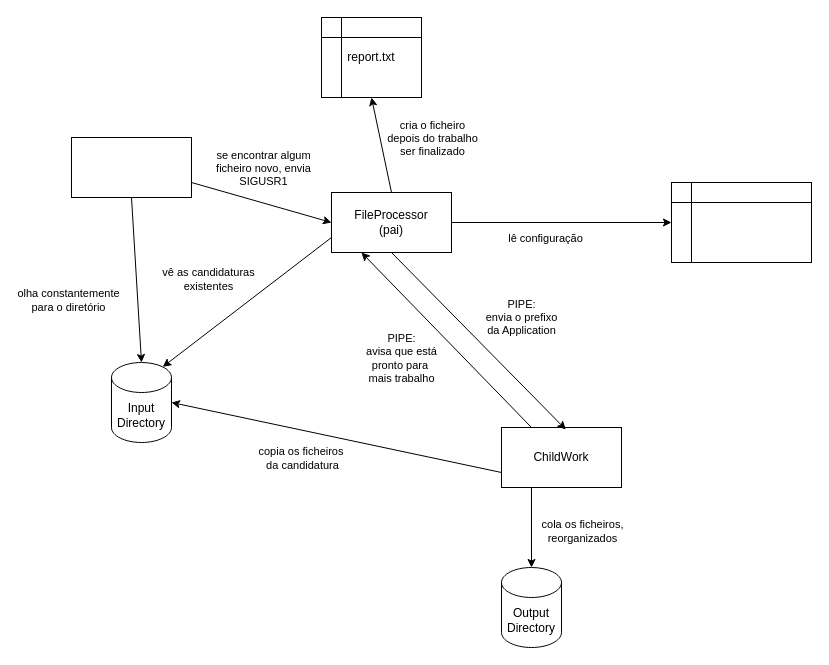
Some shapes in this 829 by 665 pixel diagram are drawn without their labels. The shapes that lost their labels are listed below. From the top down, each one's centre as x and y in pixels, then its label:
At point 131,167: "InputChecker".
At point 741,222: "config.properties".
